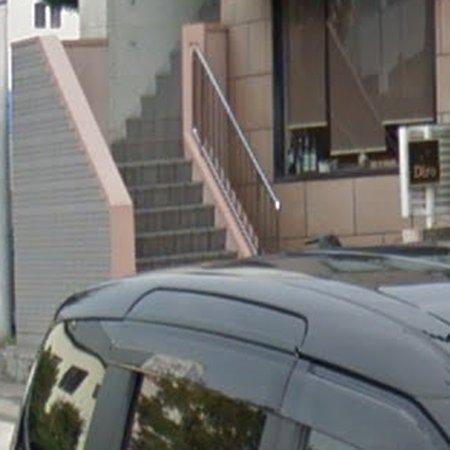stairs: (112, 50, 228, 270)
